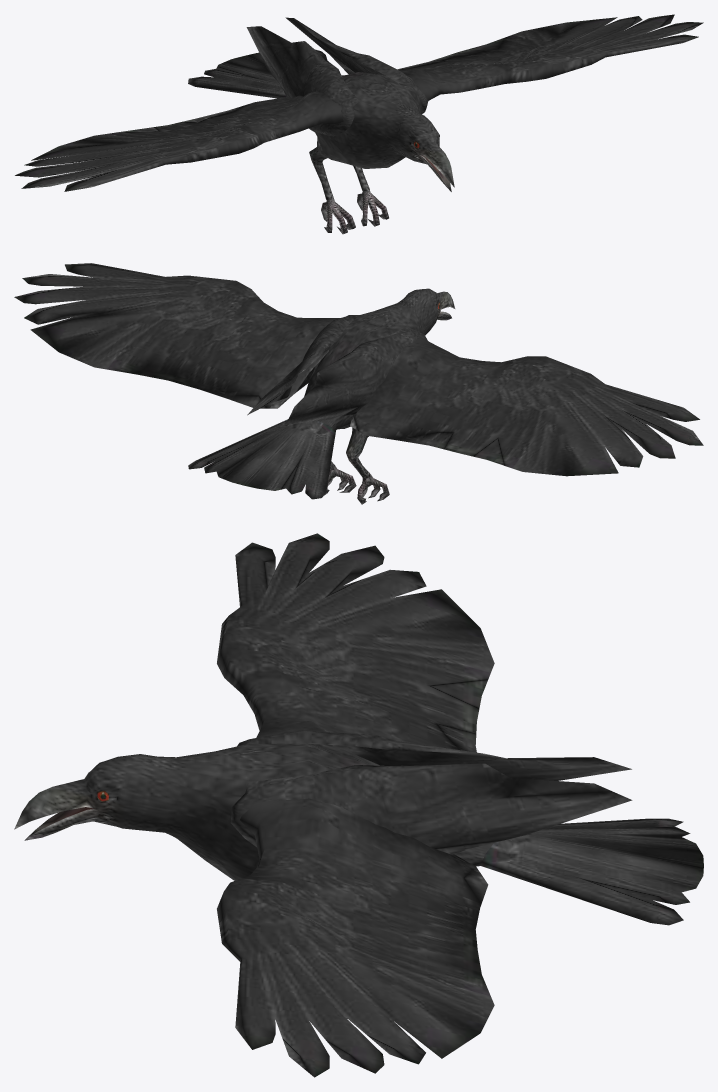
3 renders of one model, top to bottom at view 1: azimuth 30°, elevation 25°; view 2: azimuth 150°, elevation 25°; view 3: azimuth 270°, elevation 25°, orthographic. The views are drawn at different scales.
Parts seen in each view (by area): view 1: U3DMesh; view 2: U3DMesh; view 3: U3DMesh.
Boxes of the visible parts, x1=… form: U3DMesh: x1=15, y1=14, x2=703, y2=234; U3DMesh: x1=14, y1=263, x2=703, y2=504; U3DMesh: x1=14, y1=533, x2=703, y2=1077.
Size of the model in its own units: 3.48 by 0.7795 by 1.86.
2 materials, 2 textured.
